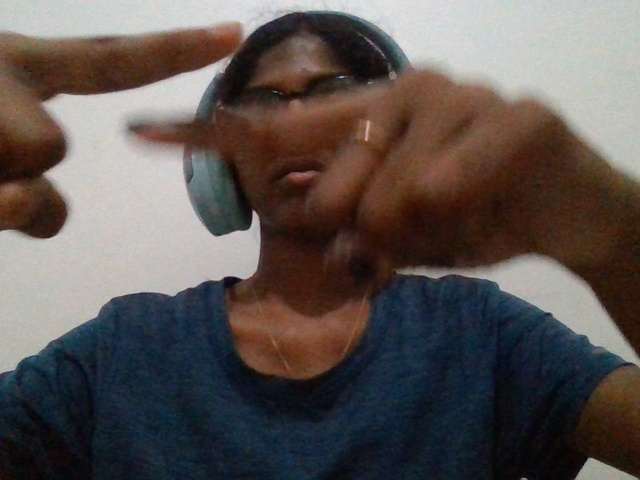Sign: (1, 2, 630, 347)
